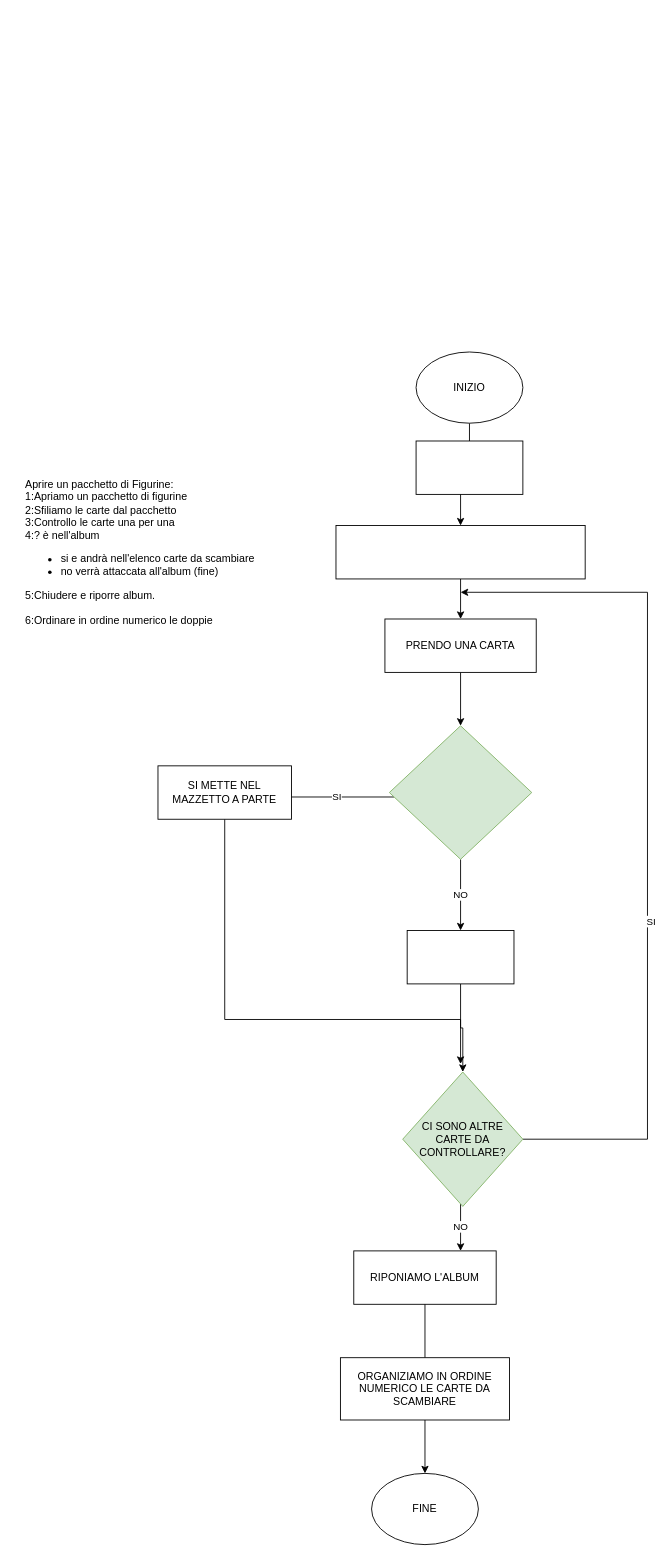
Some shapes in this 670 by 1560 pixel diagram are drawn without their labels. Here are the shapes that lost their labels. From the top down, the centre of each, then its label:
At (x=469, y=467): "APRIAMO PACCHETTO DI FIGURINE".
At (x=460, y=552): "SFILIAMO LE CARTE DAL PACCHETTO".
At (x=460, y=792): "è NELL'ALBUM?".
At (x=460, y=957): "LA CARTA SI AGGIUNGE ALL'ALBUM".
